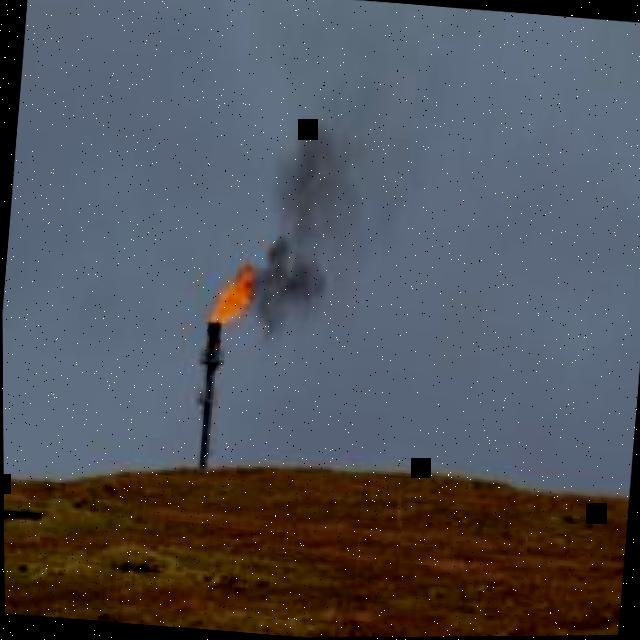fire: (208, 269, 250, 325)
smoke: (275, 124, 361, 262), (251, 238, 325, 332)
